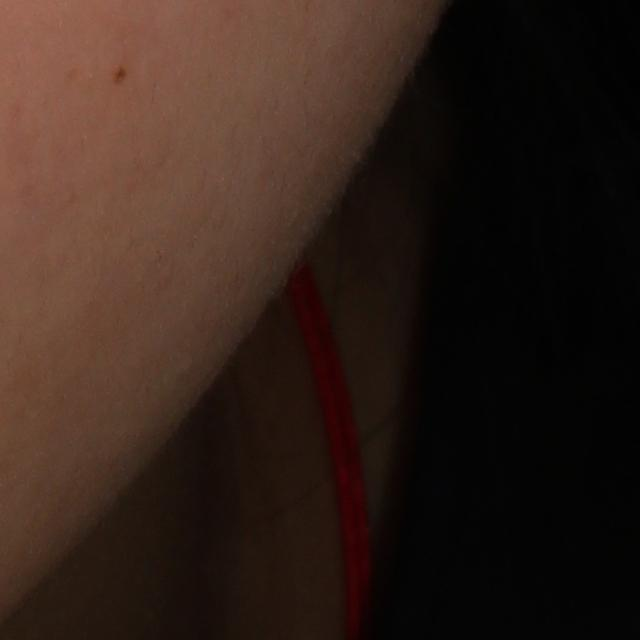nevus: (107, 61, 131, 90)
